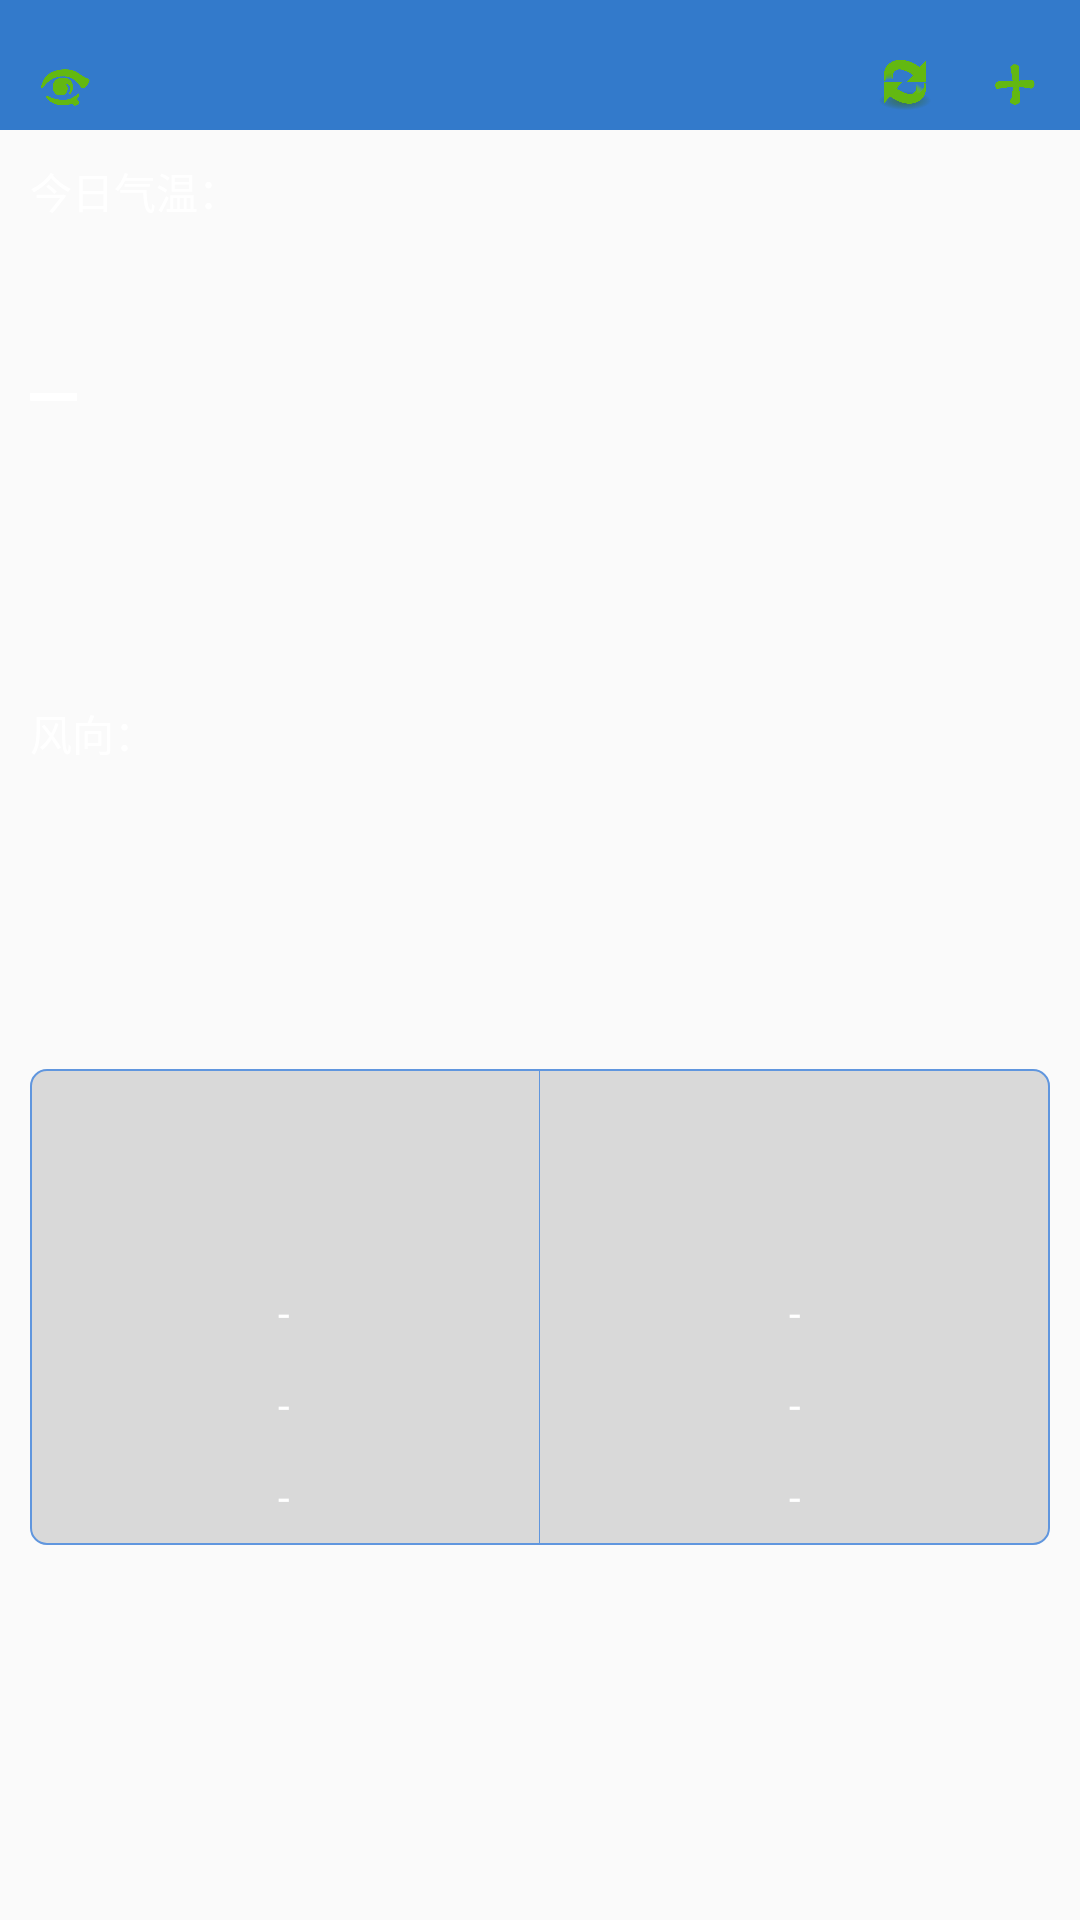

Where icons sit on this 1080 x 1920 app screen, as bbox=(x1, y1, x2, y2):
add: bbox=(995, 64, 1035, 105)
refresh: bbox=(883, 60, 927, 109)
